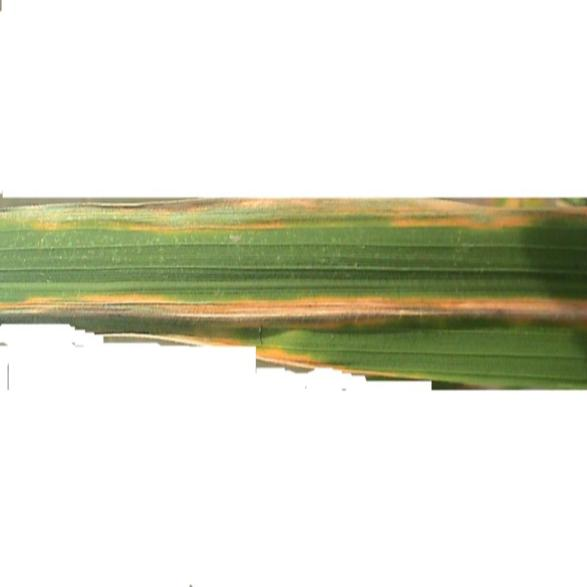Bacteria_Leaf_Blight: (11, 274, 584, 366), (11, 165, 577, 252)
